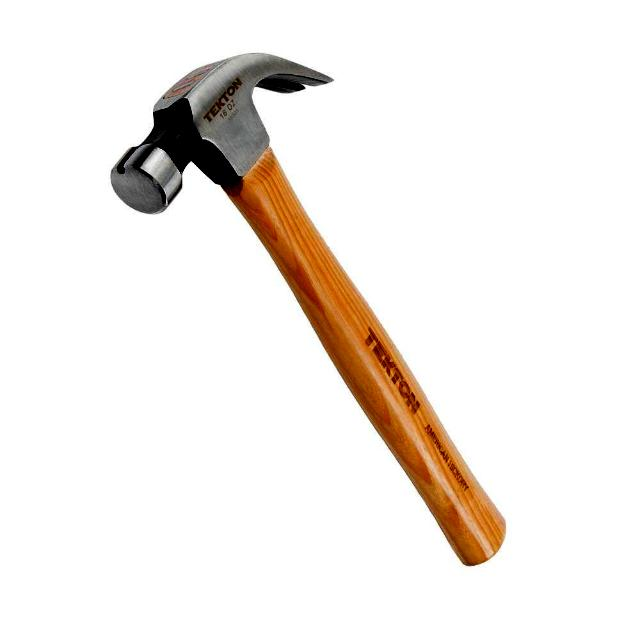hammer: (102, 43, 516, 573)
